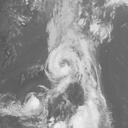cyclone: (43, 44, 83, 84), (18, 94, 43, 118)
